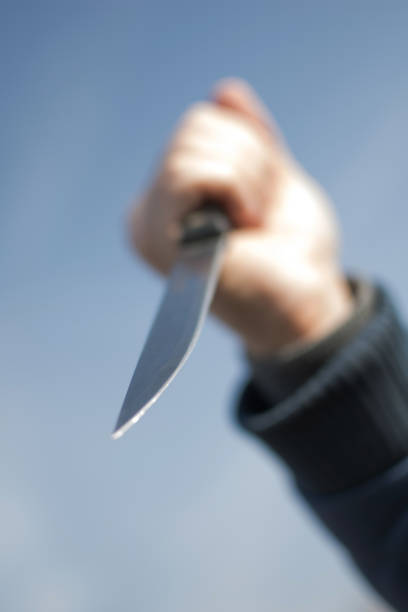knife: (109, 189, 235, 444)
